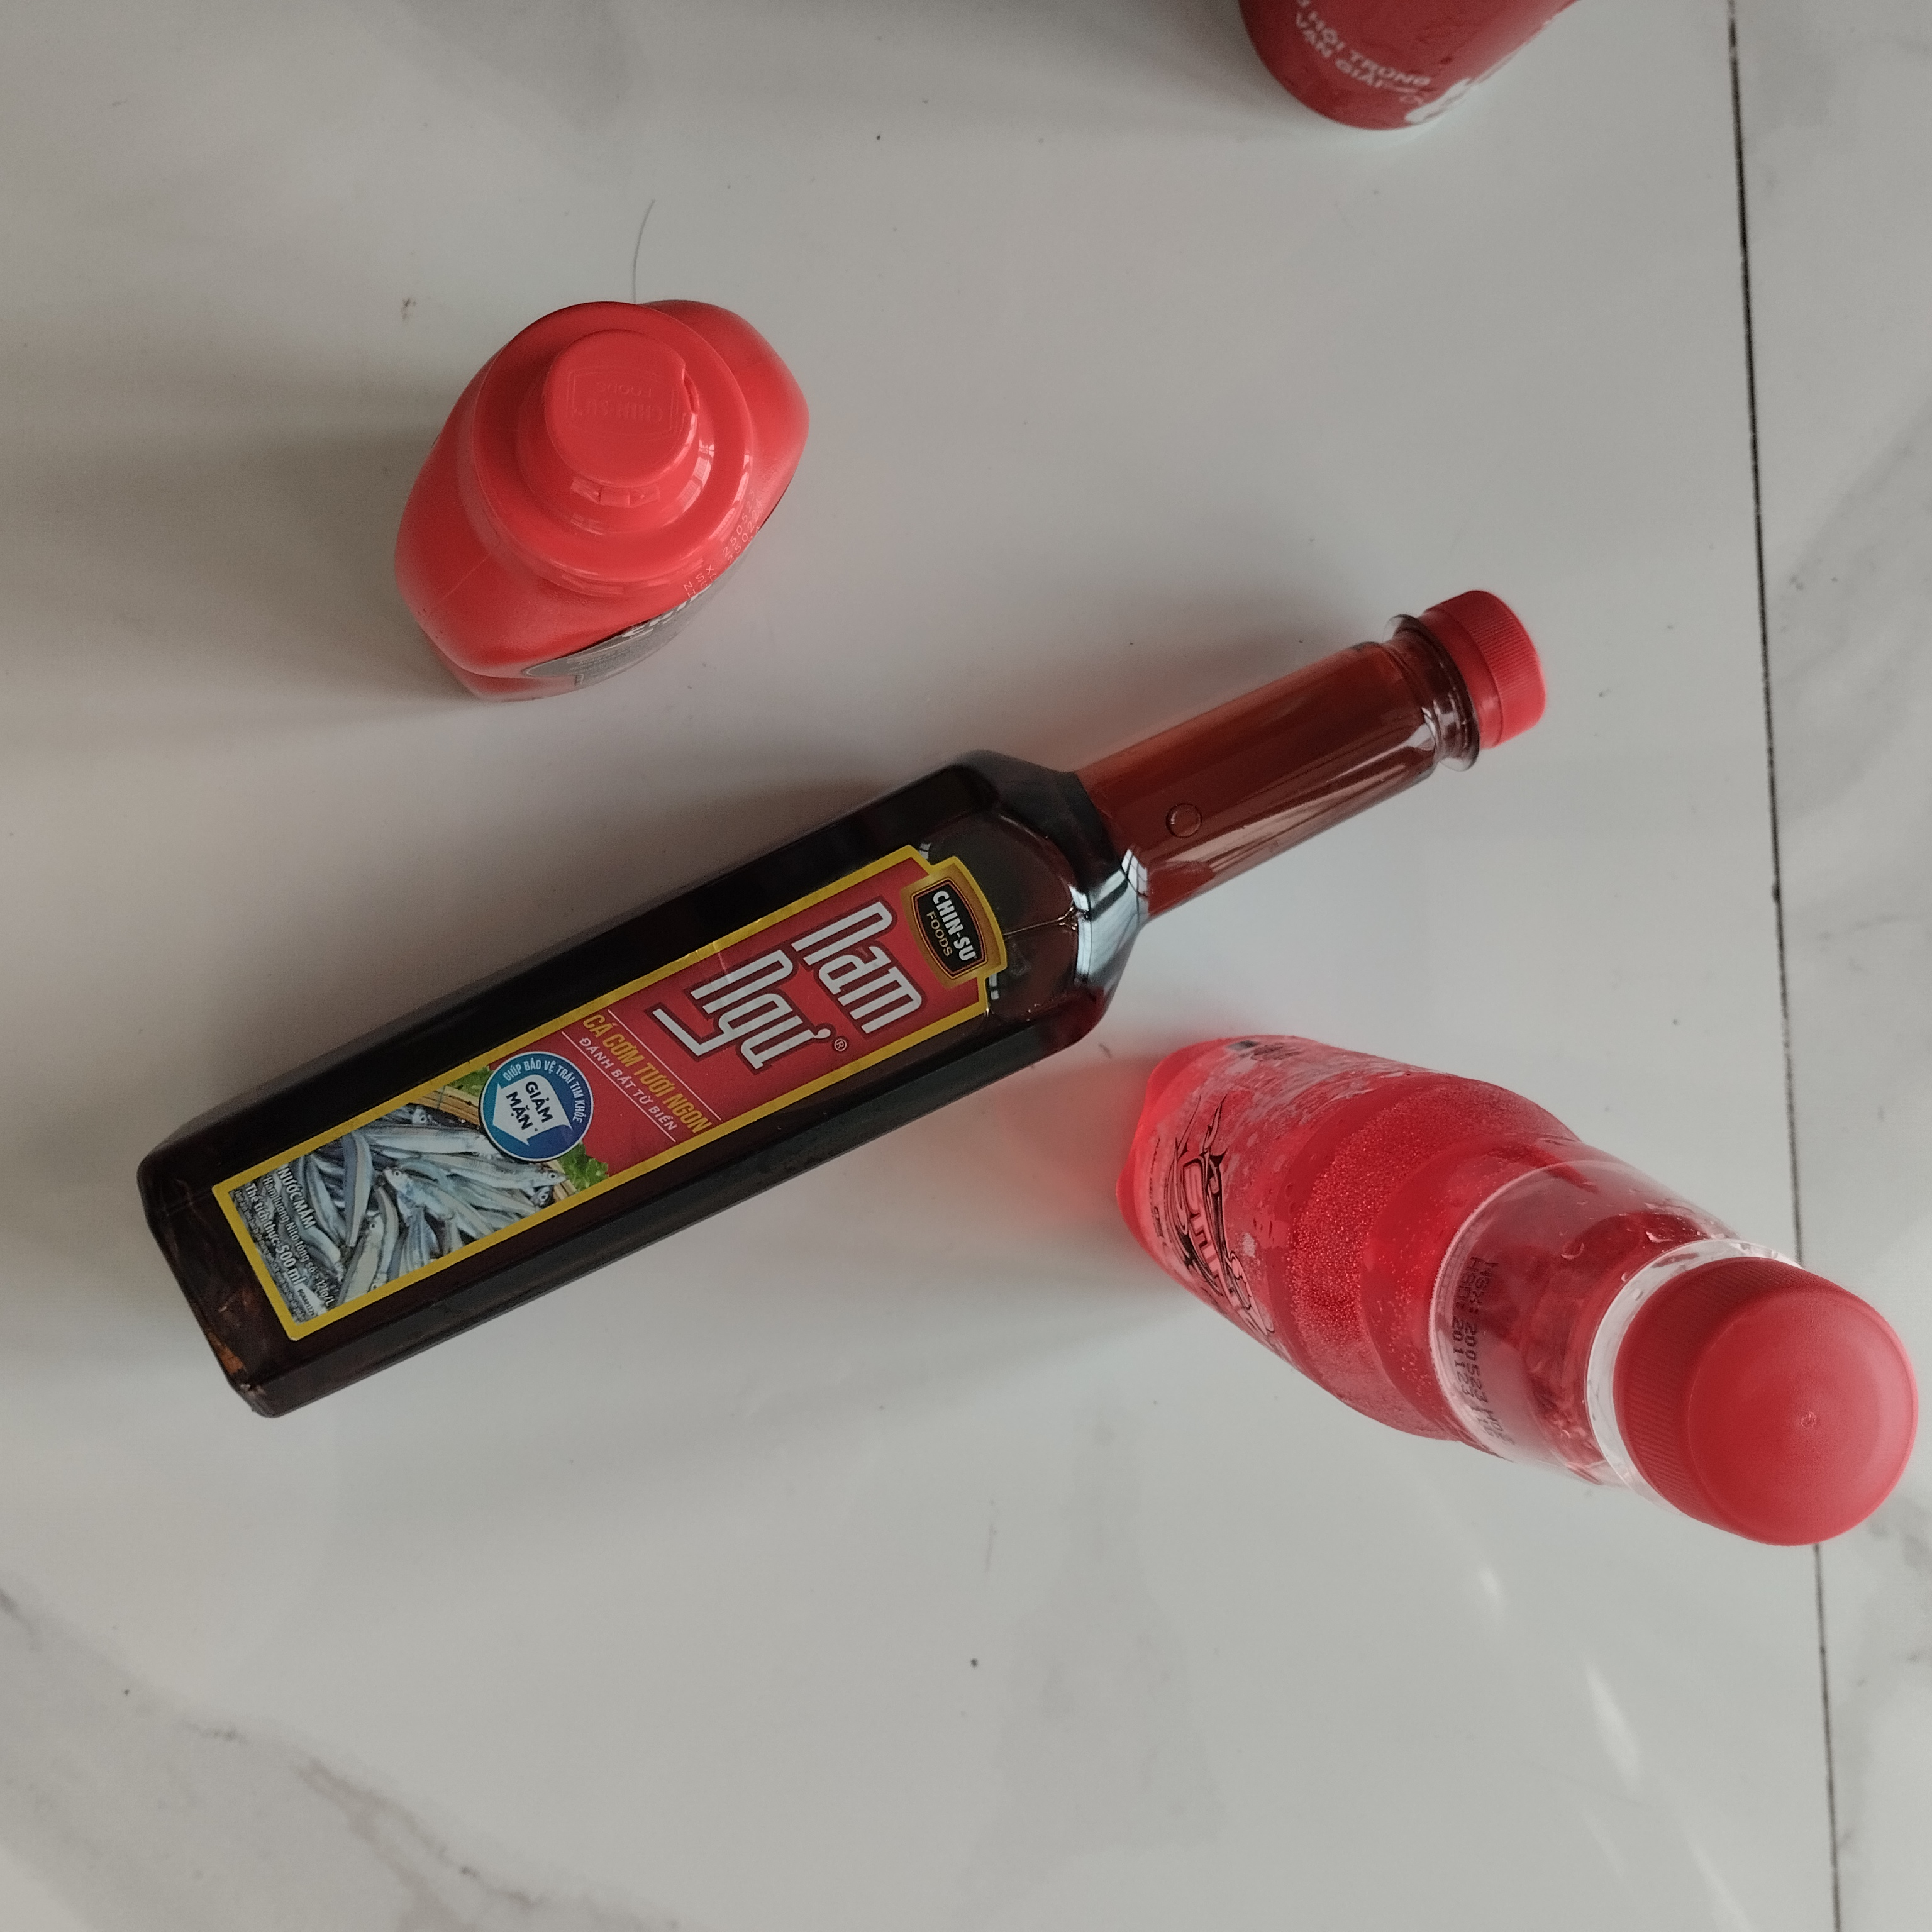Chinsu: (363, 276, 823, 755)
Namngu: (115, 586, 1545, 1412)
Sting: (1116, 1023, 1921, 1537)
